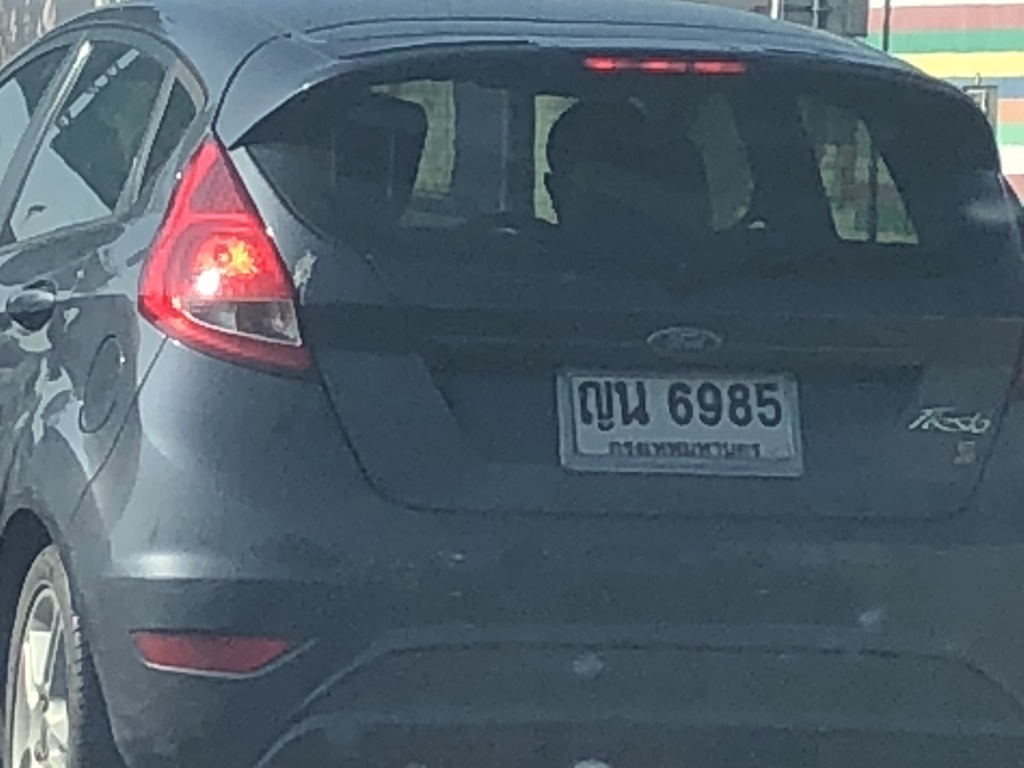plate: (551, 353, 815, 488)
